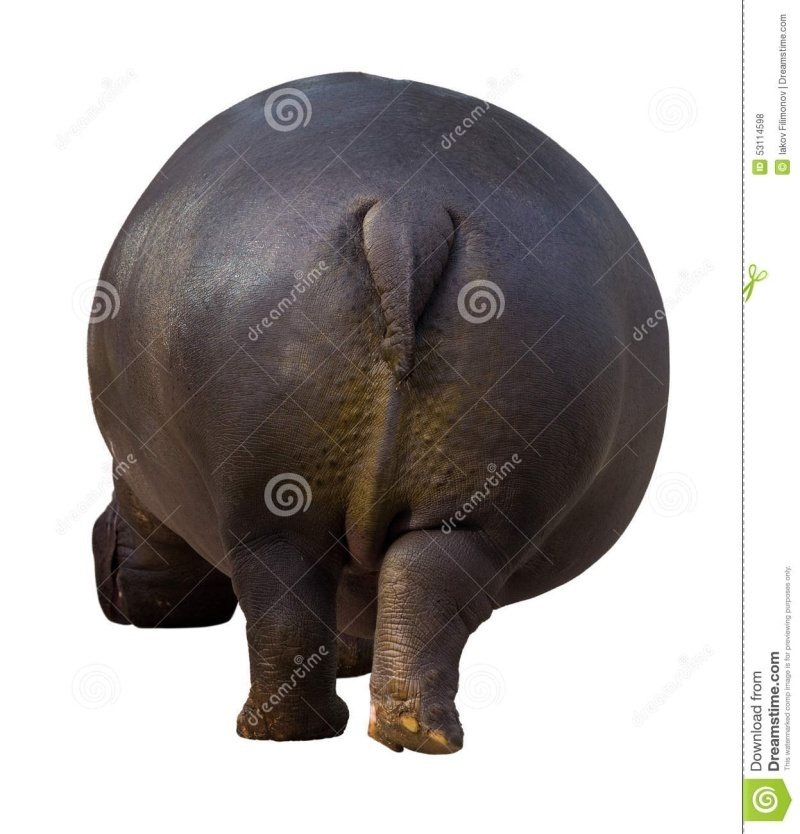hipopotamo: (75, 67, 697, 773)
